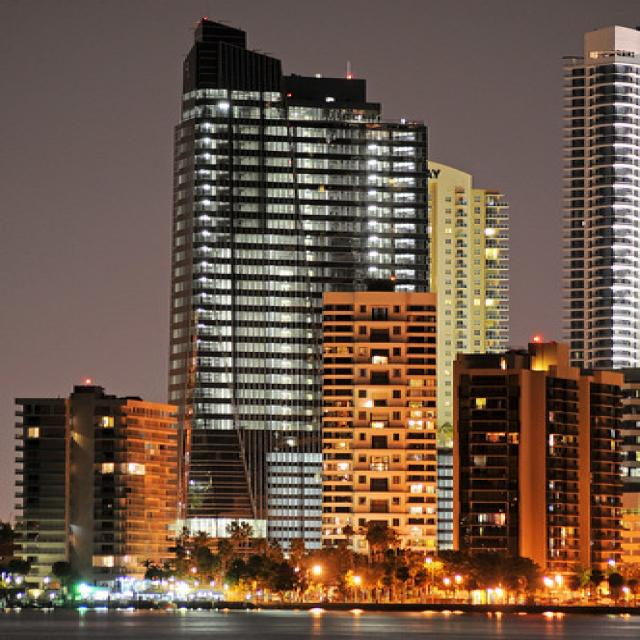building: (161, 18, 518, 594), (449, 338, 638, 608), (9, 382, 188, 606)
